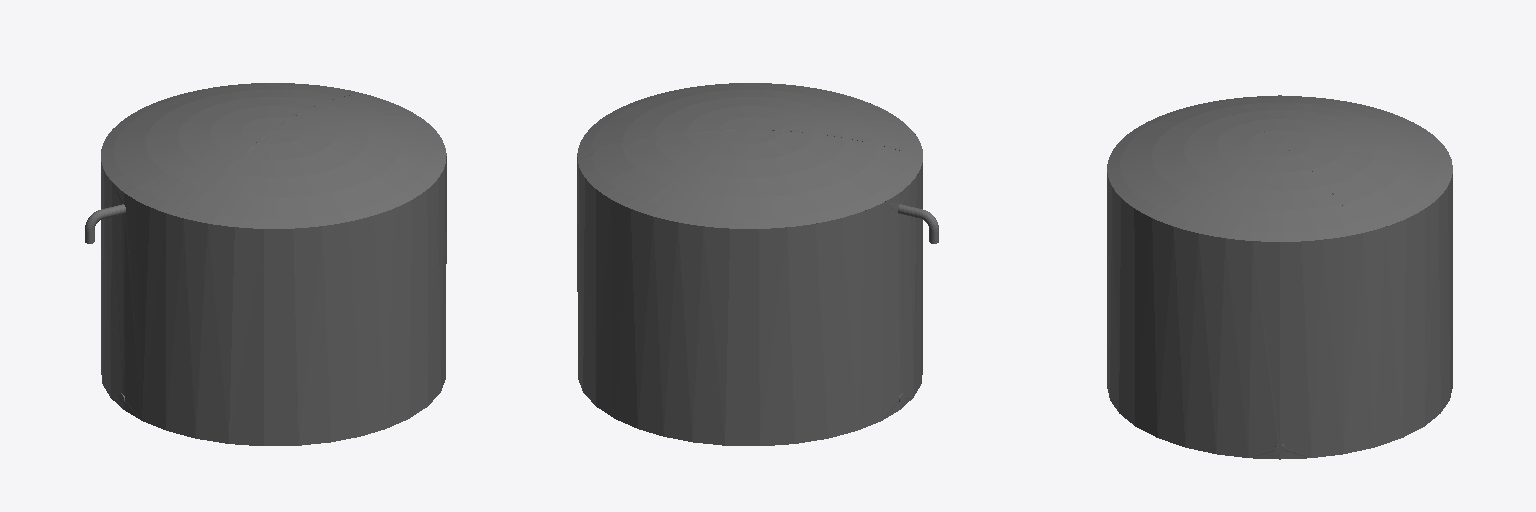
Rendered from shuijieshenhuaguan.obj.
3 views of the same model, side by side, from view 1: azimuth 30°, elevation 25°; view 2: azimuth 150°, elevation 25°; view 3: azimuth 270°, elevation 25° (orthographic).
Visible parts, largest first — view 1: NONE_DC_Brep; view 2: NONE_DC_Brep; view 3: NONE_DC_Brep.
Boxes of the visible parts, <box> form: NONE_DC_Brep: <box>85,83,446,445</box>; NONE_DC_Brep: <box>577,83,938,445</box>; NONE_DC_Brep: <box>1107,95,1452,459</box>.
Size of the model in its own units: 8716 by 5950 by 7660.